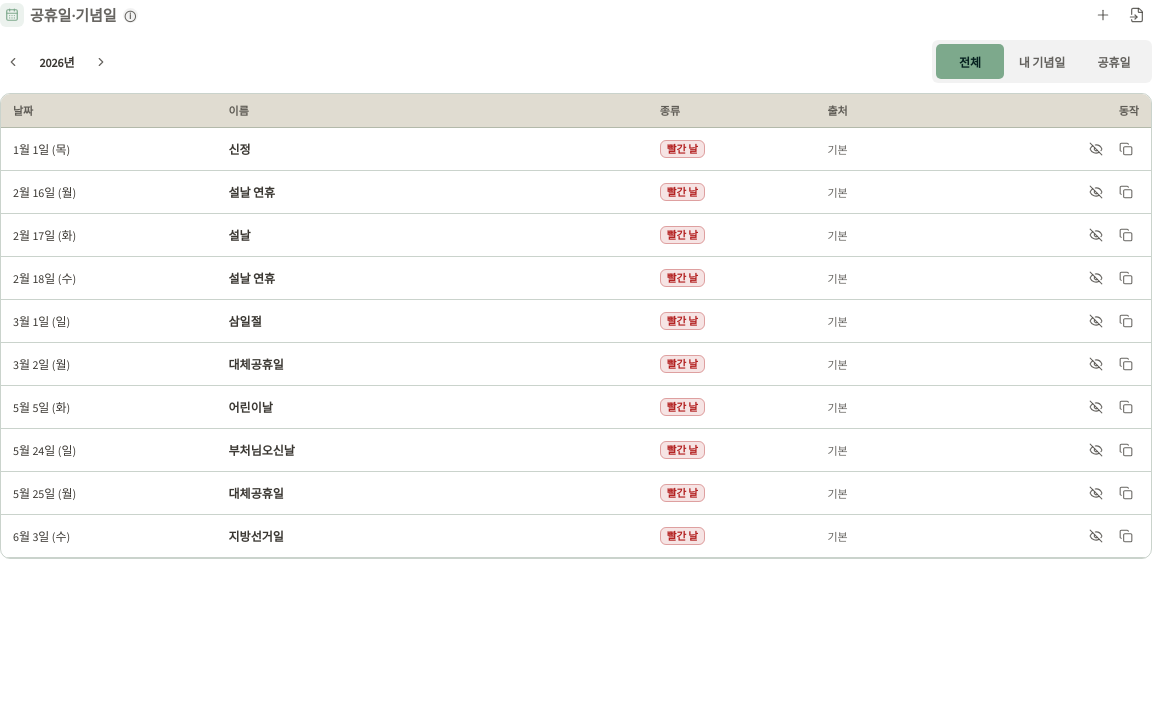
Test: DayMarksSection — 공휴일·기념일 표 (PLAN-2026-09-19-calendar-schedule §5.2) › 양력 2월 30일은 서버에 가기 전에 막는다
Click the button with test id "day-marks-add-btn" at [1103, 15], box [1088,0,1118,30]
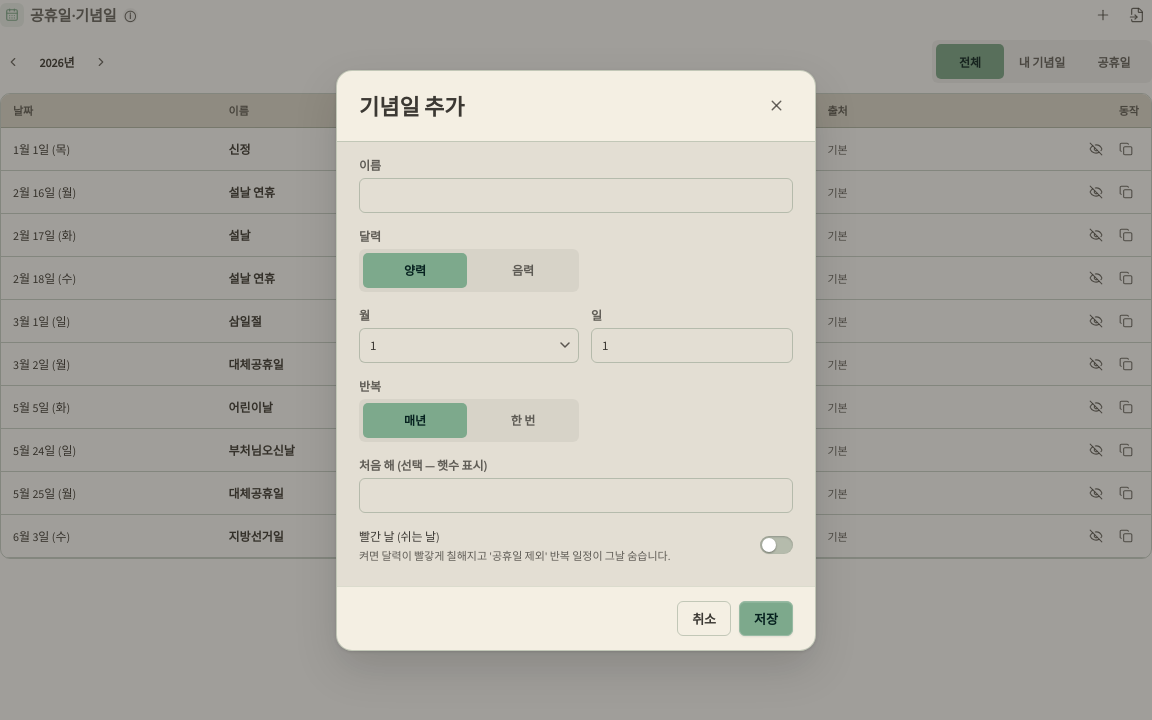
Type "x" into the field with test id "day-mark-form-title" at [576, 195], box [359,178,793,212]
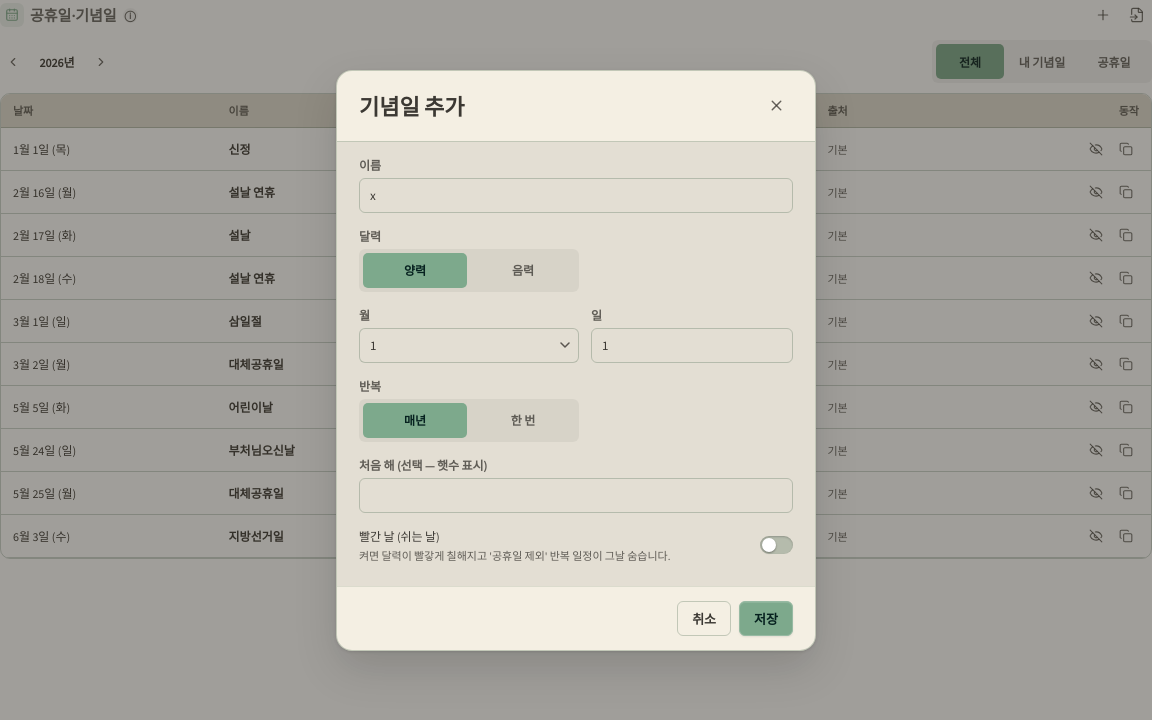
Click the button with test id "day-mark-form-month" at [469, 345], box [359,328,579,362]
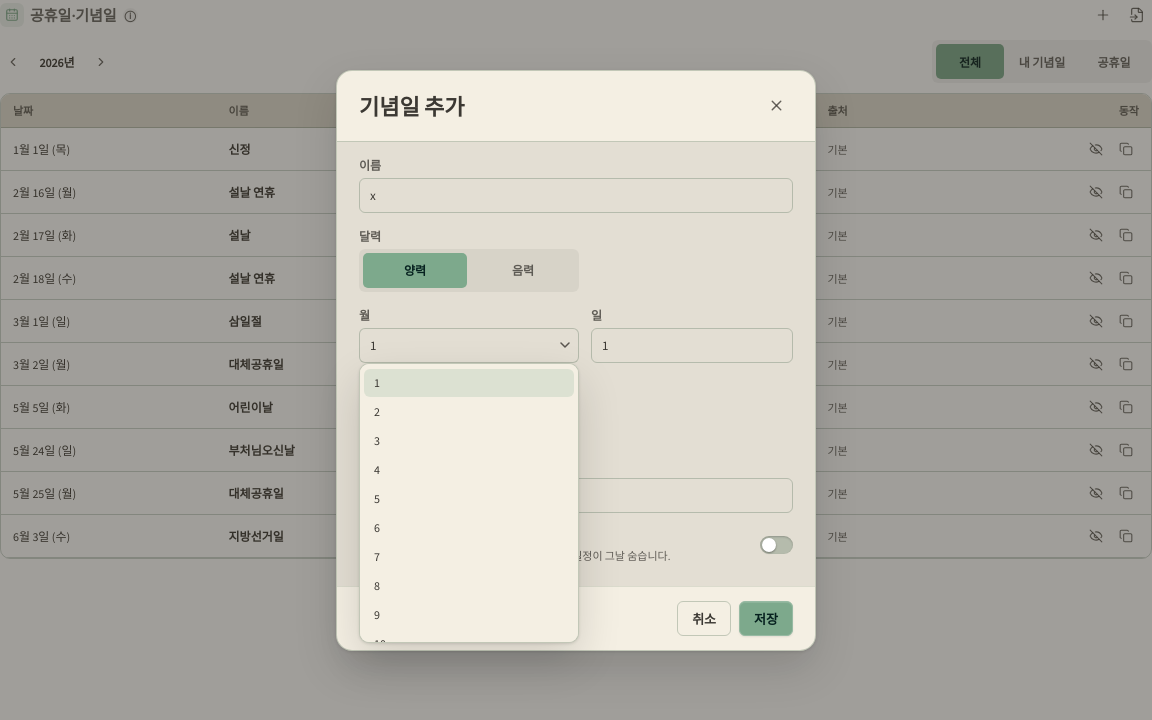
Click the option "2" at [377, 412], box [374,404,380,420]
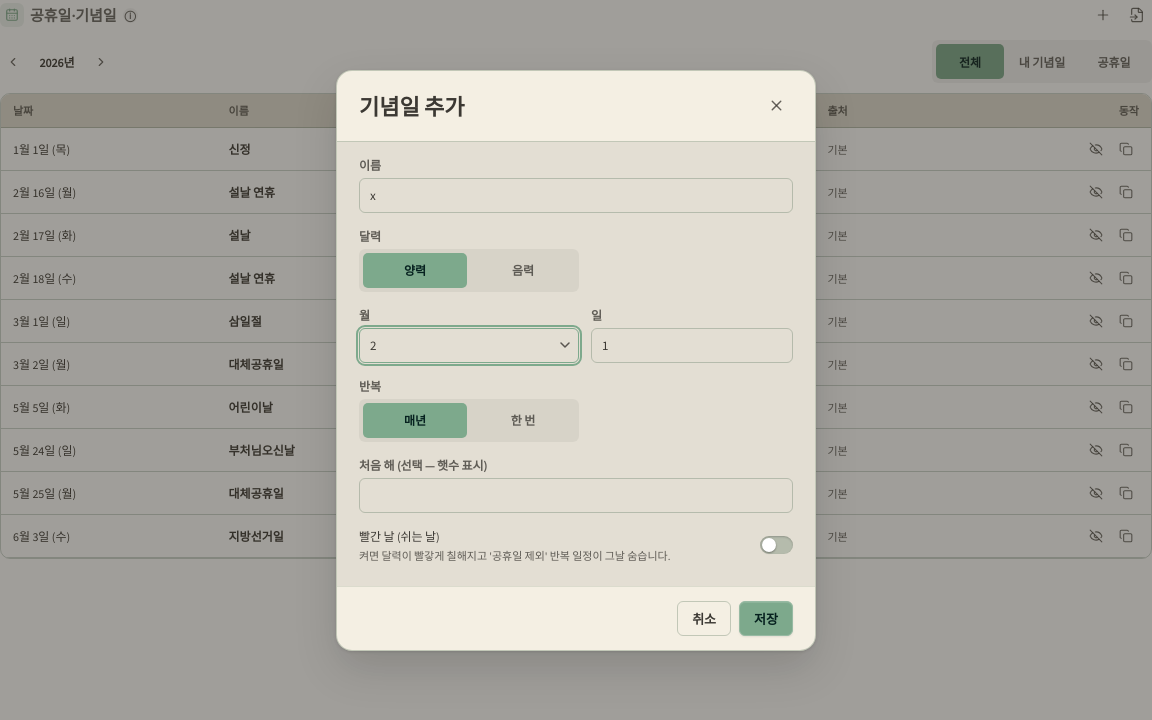
Replace the text in the number field with test id "day-mark-form-day" with "30" at [692, 345], box [591,328,793,362]
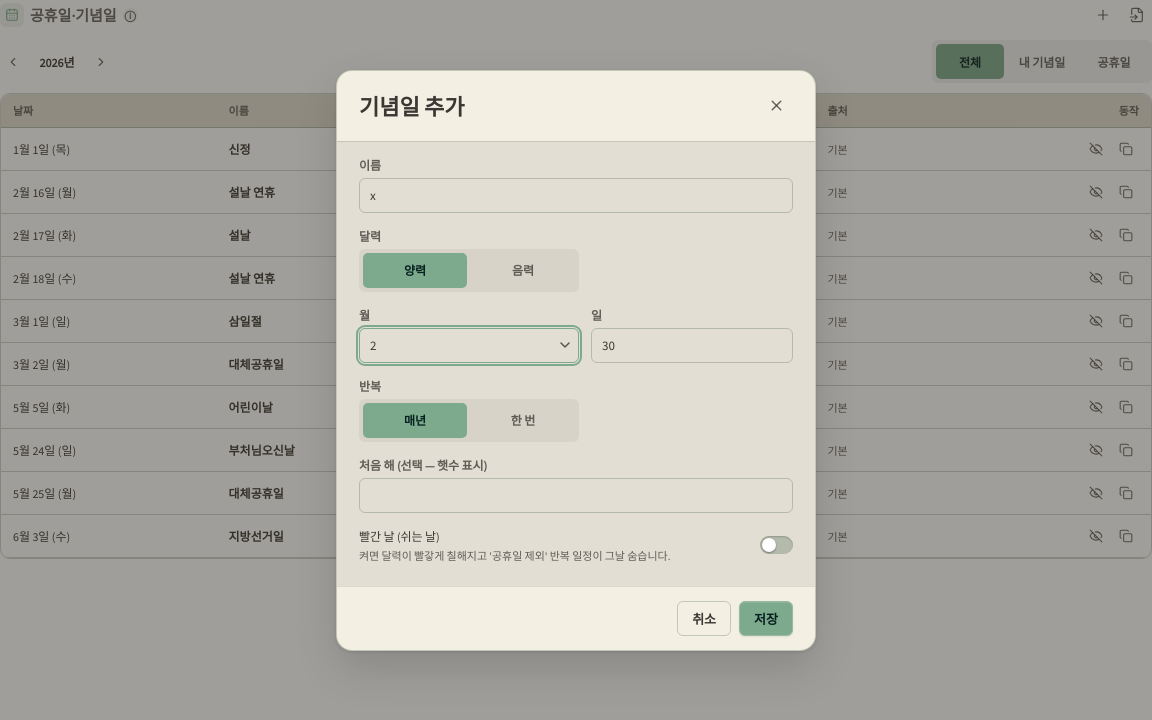
Click the button with test id "day-mark-form-save" at [766, 618], box [739,600,793,636]
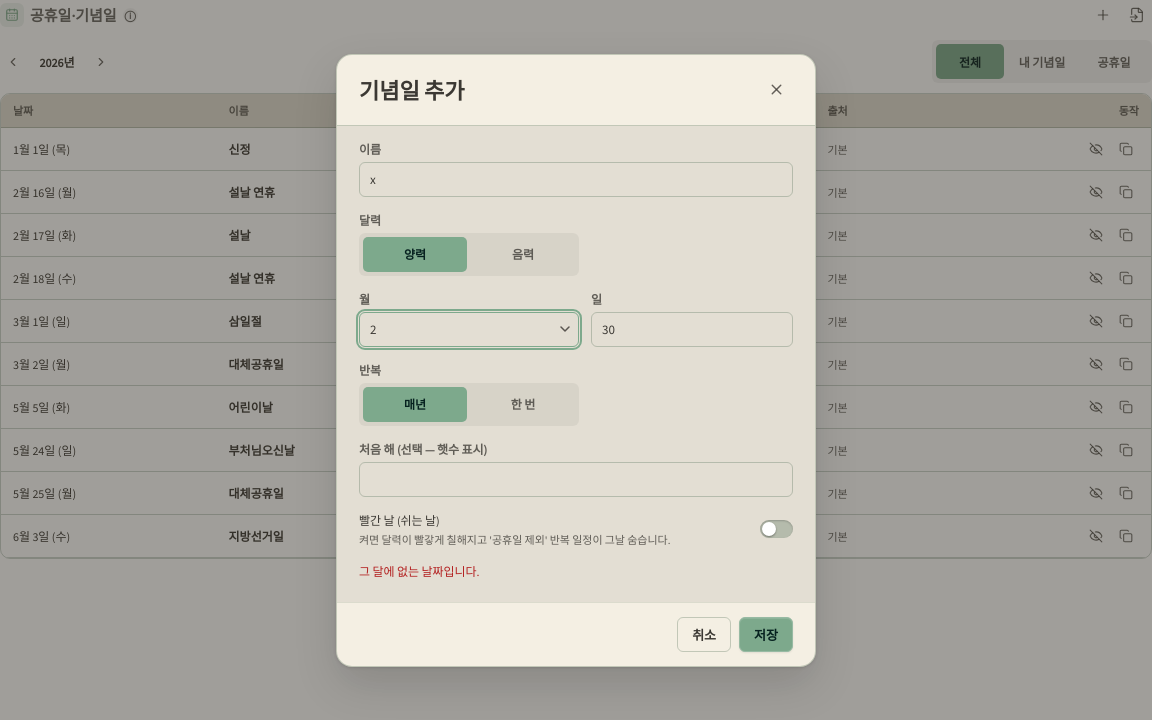
Check: the message "그 달에 없는 날짜입니다." is shown, box [359,564,480,580]
